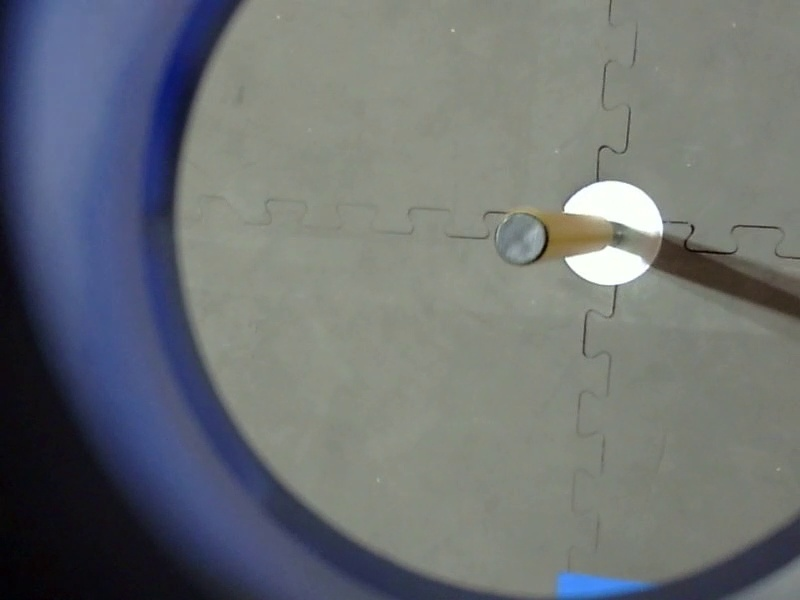tip: (492, 203, 559, 270)
